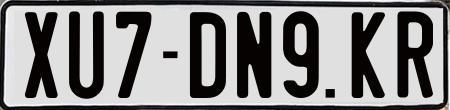7: (115, 11, 150, 100)
9: (283, 8, 324, 98)
D: (188, 11, 229, 101)
K: (352, 10, 386, 98)
N: (236, 11, 274, 97)
R: (397, 11, 438, 101)
U: (68, 11, 106, 102)
X: (23, 11, 62, 101)
